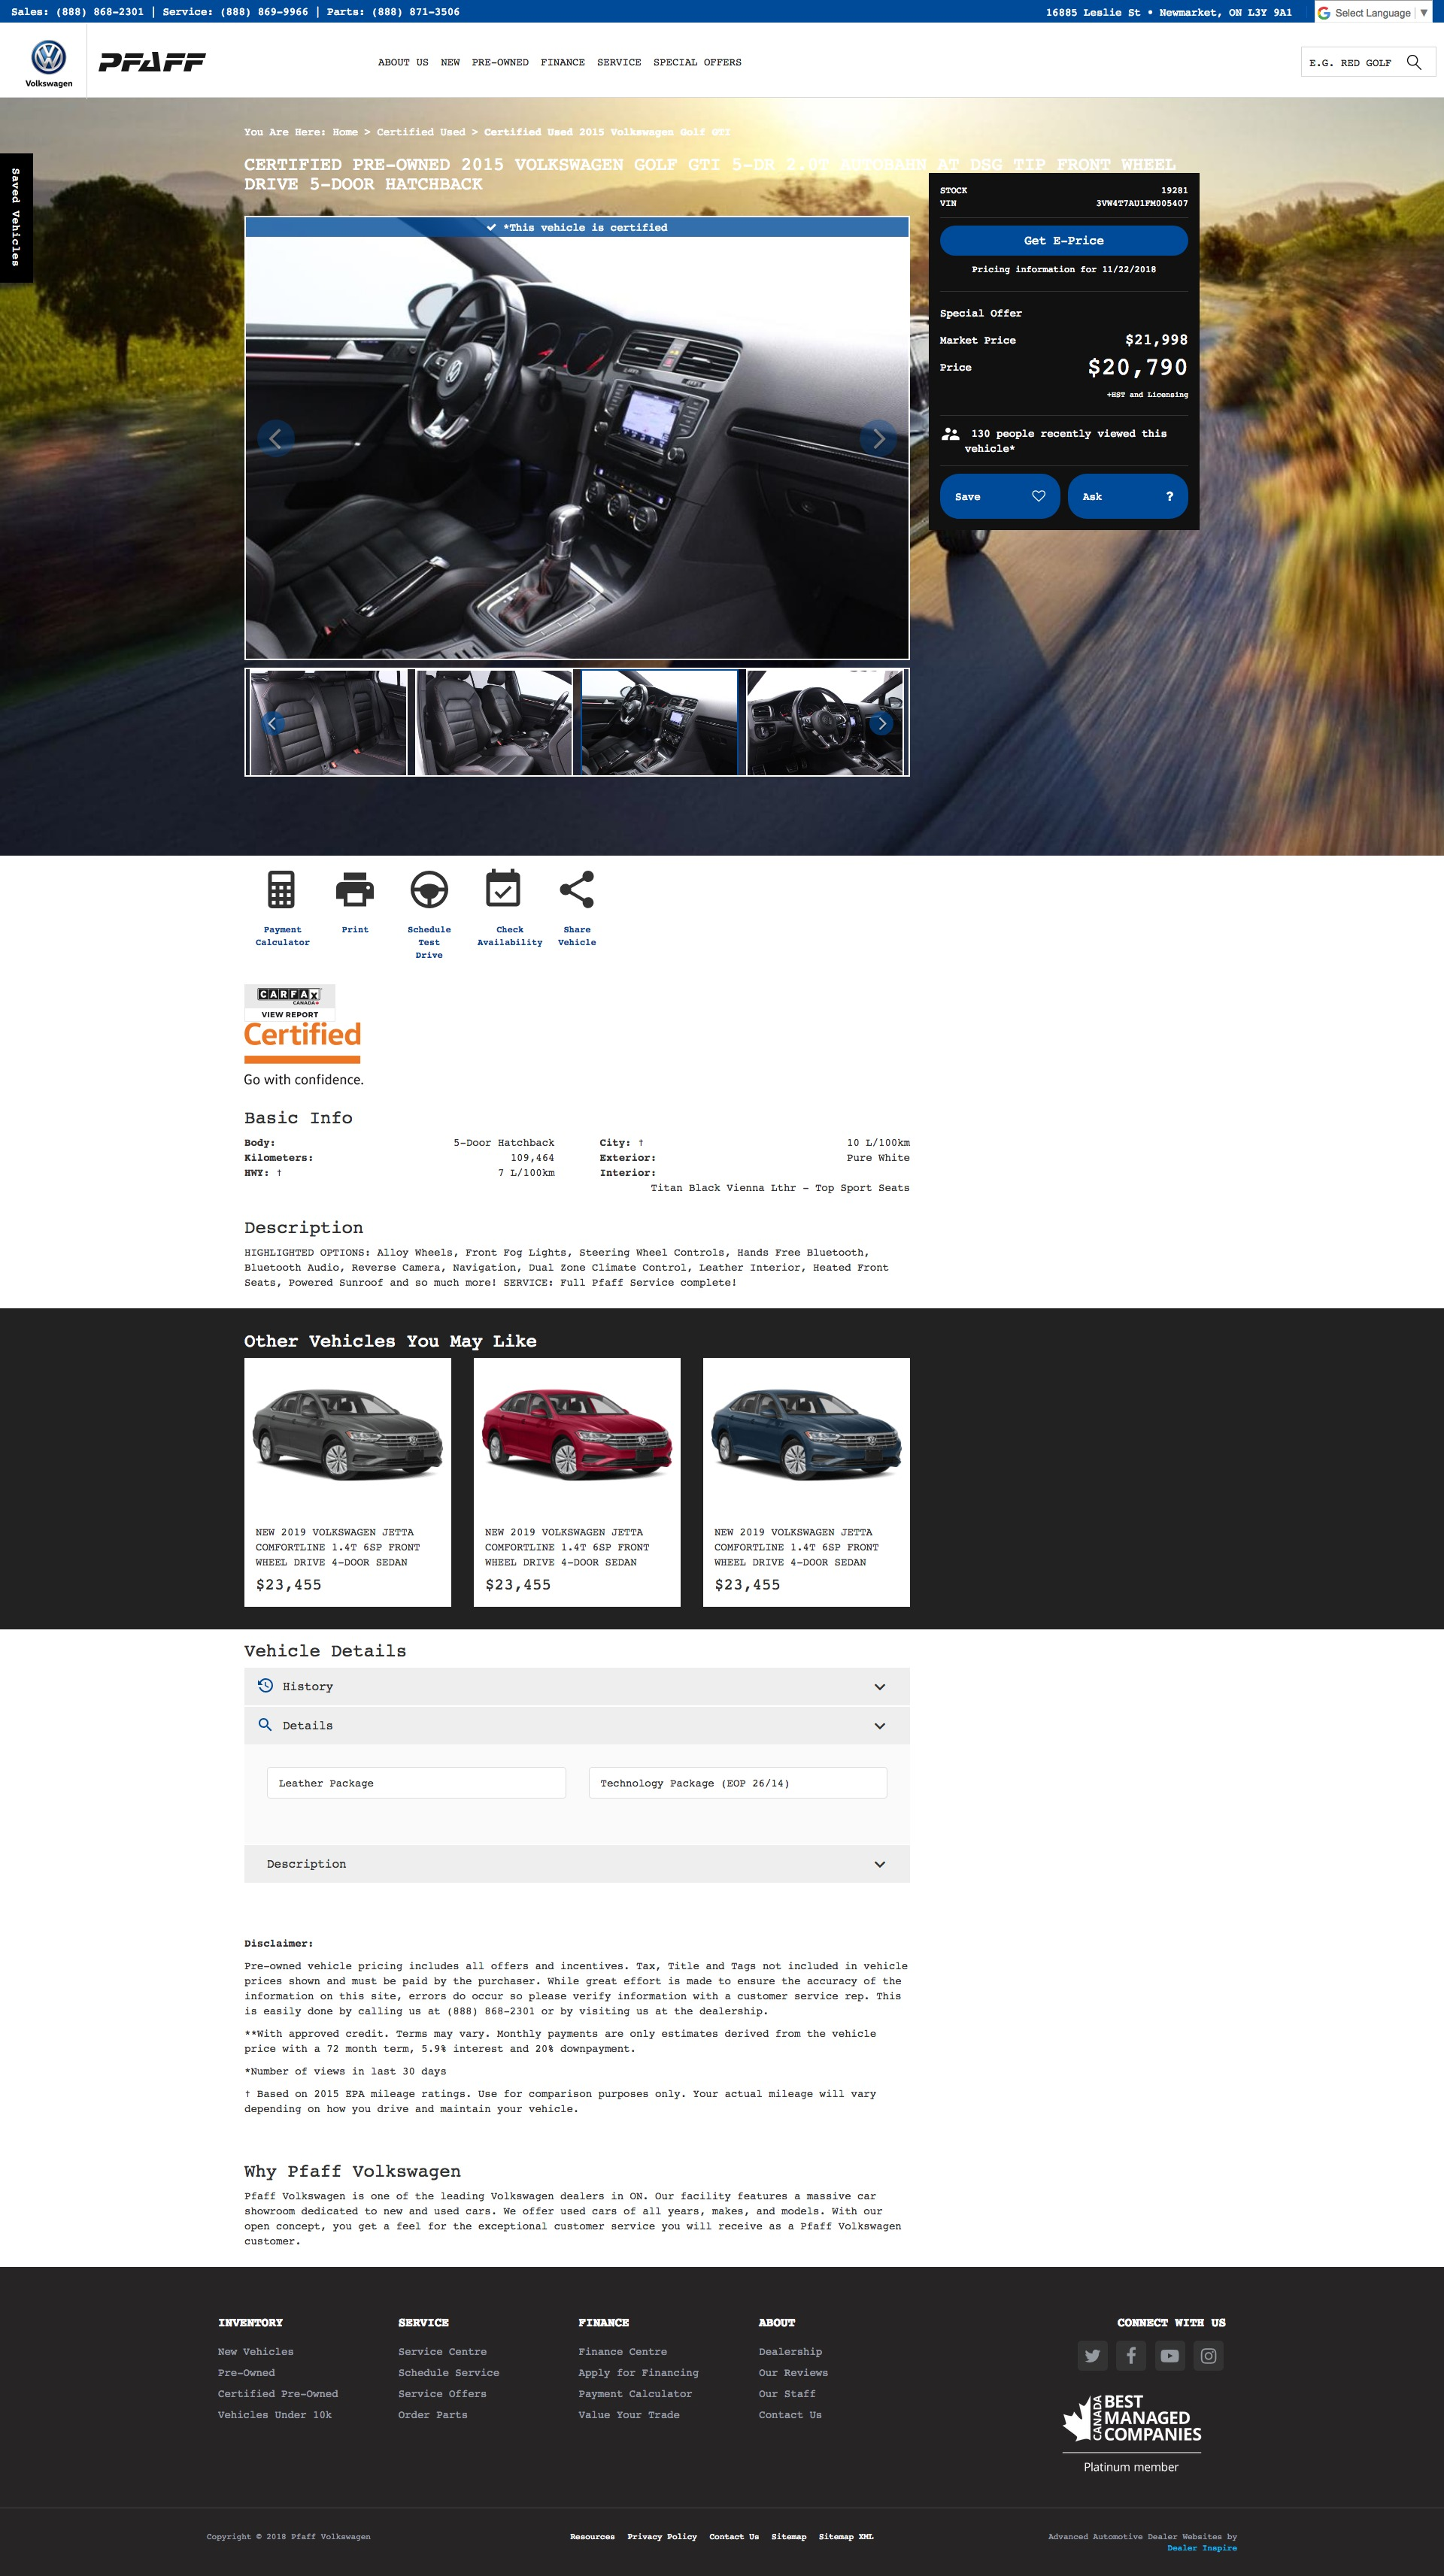car: (878, 718, 888, 731)
